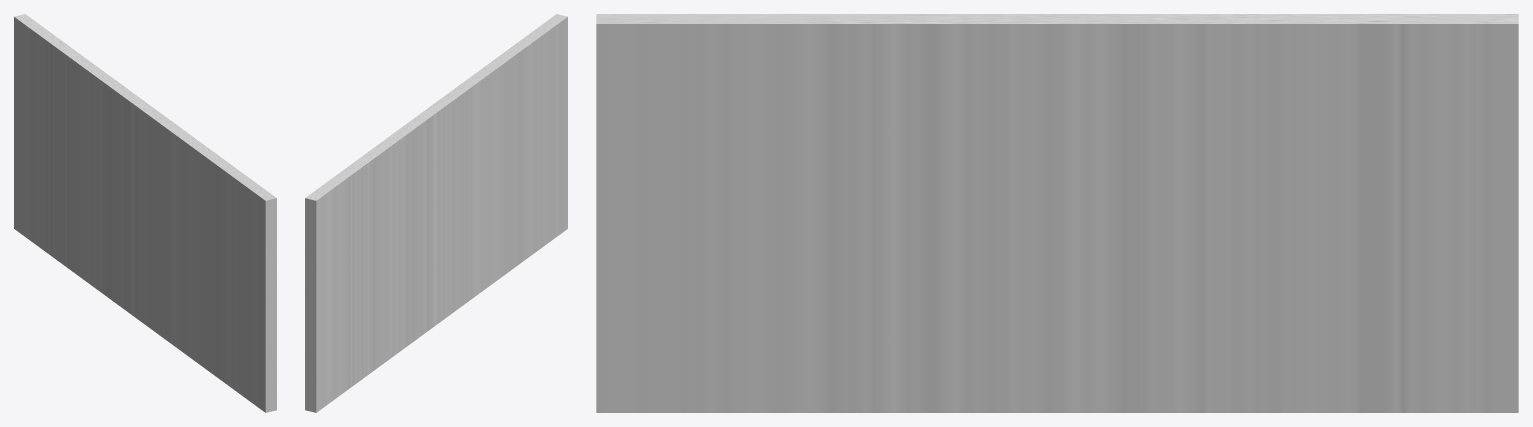
Rendered from mur1.fbx.
3 views of the same model, side by side, from view 1: azimuth 30°, elevation 25°; view 2: azimuth 150°, elevation 25°; view 3: azimuth 270°, elevation 25° (orthographic). The views are drawn at different scales.
Visible parts, largest first — view 1: msh_mûr1; view 2: msh_mûr1; view 3: msh_mûr1.
Boxes of the visible parts, x1=… form: msh_mûr1: x1=14, y1=14, x2=276, y2=412; msh_mûr1: x1=305, y1=14, x2=567, y2=412; msh_mûr1: x1=596, y1=14, x2=1518, y2=412.
Size of the model in its own units: 1.35 by 24.48 by 52.61.
Materials: 1 (1 with a texture image).
